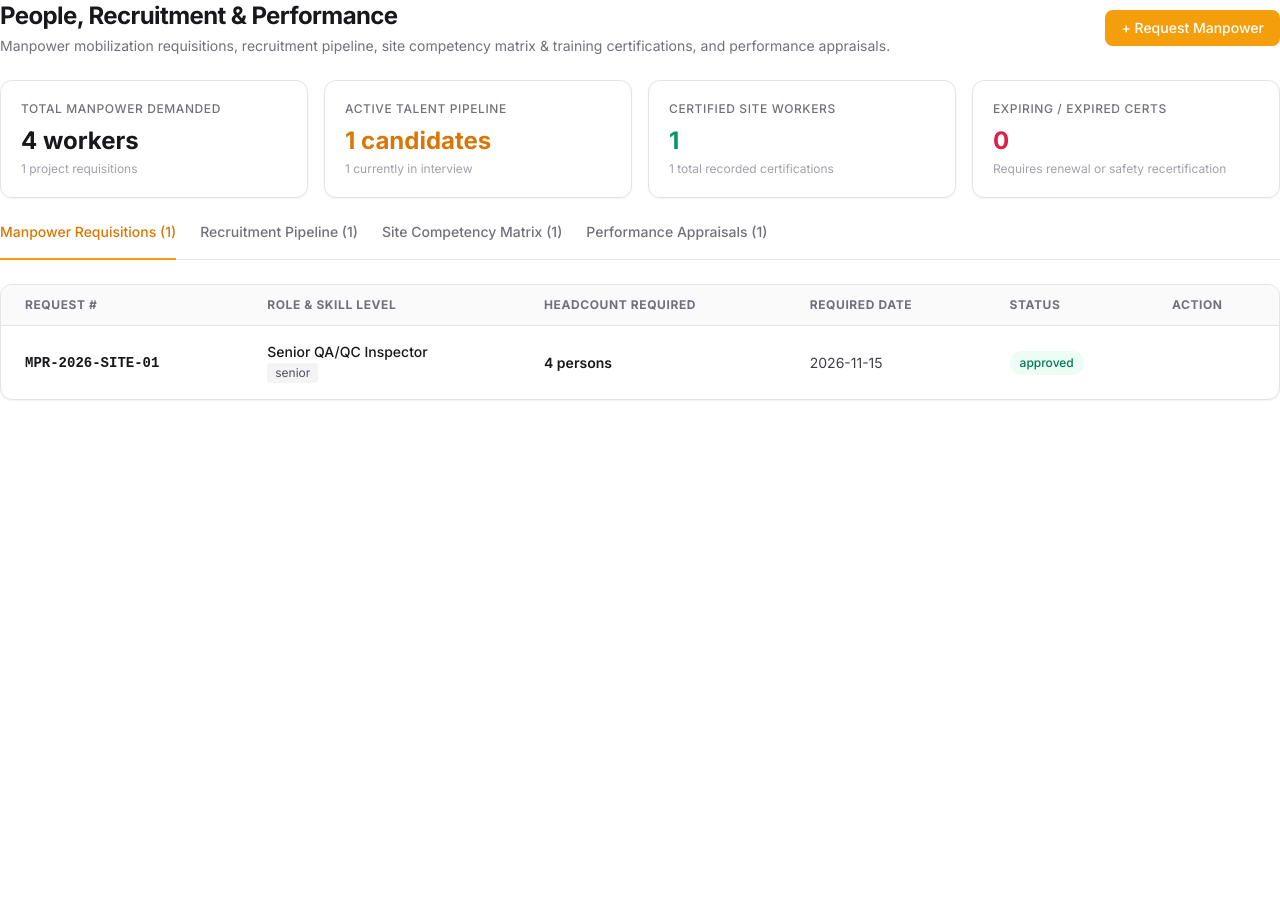
Test: M24: People, Recruitment & Performance Page › opens Request Manpower modal when clicking action button
Click the button "+ Request Manpower" at x=1193, y=28, box x1=1105 y1=10 x2=1279 y2=46
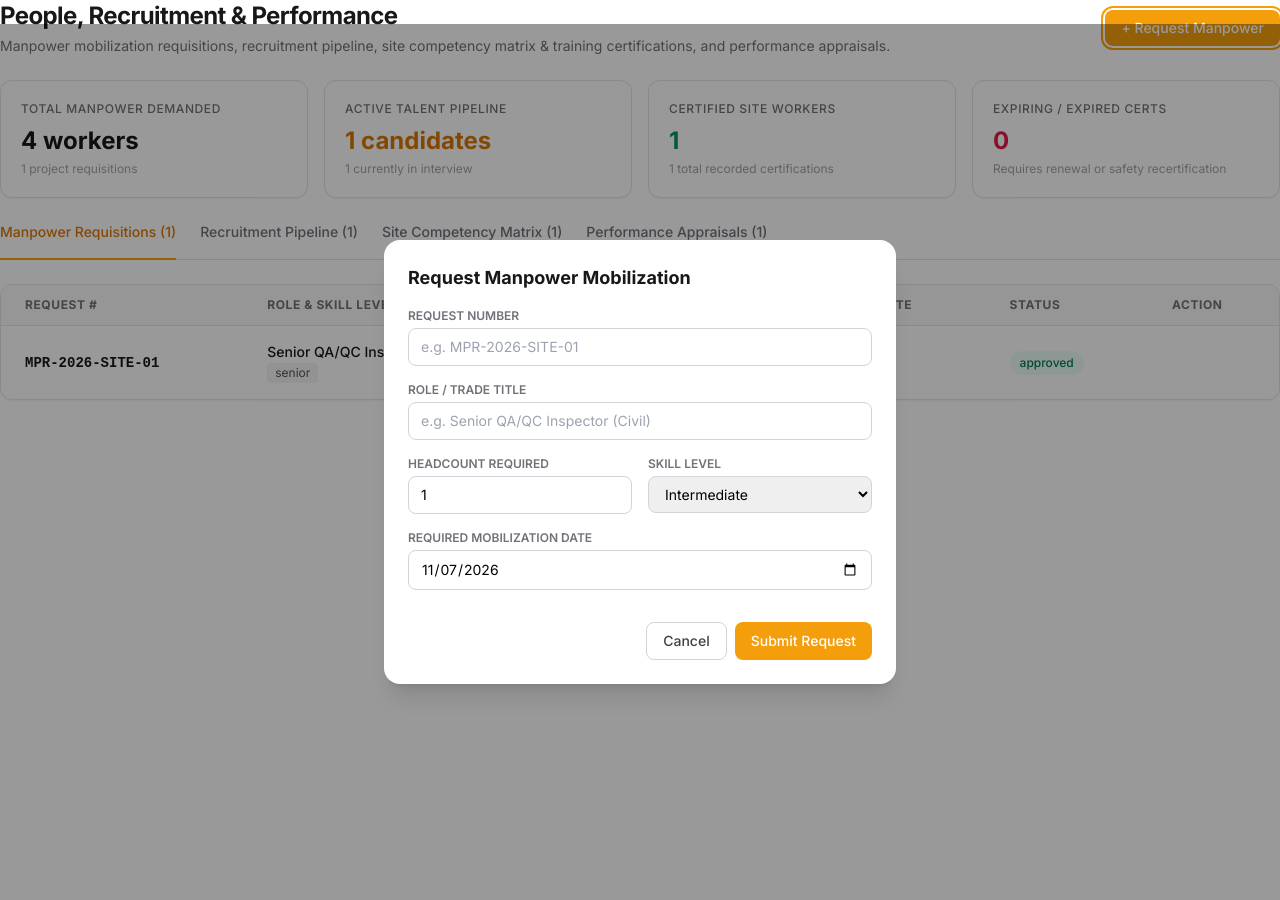
Result: the heading "Request Manpower Mobilization" is shown at x1=408 y1=267 x2=691 y2=288
Result: the field with placeholder "e.g. MPR-2026-SITE-01" is shown at x1=408 y1=328 x2=872 y2=366
